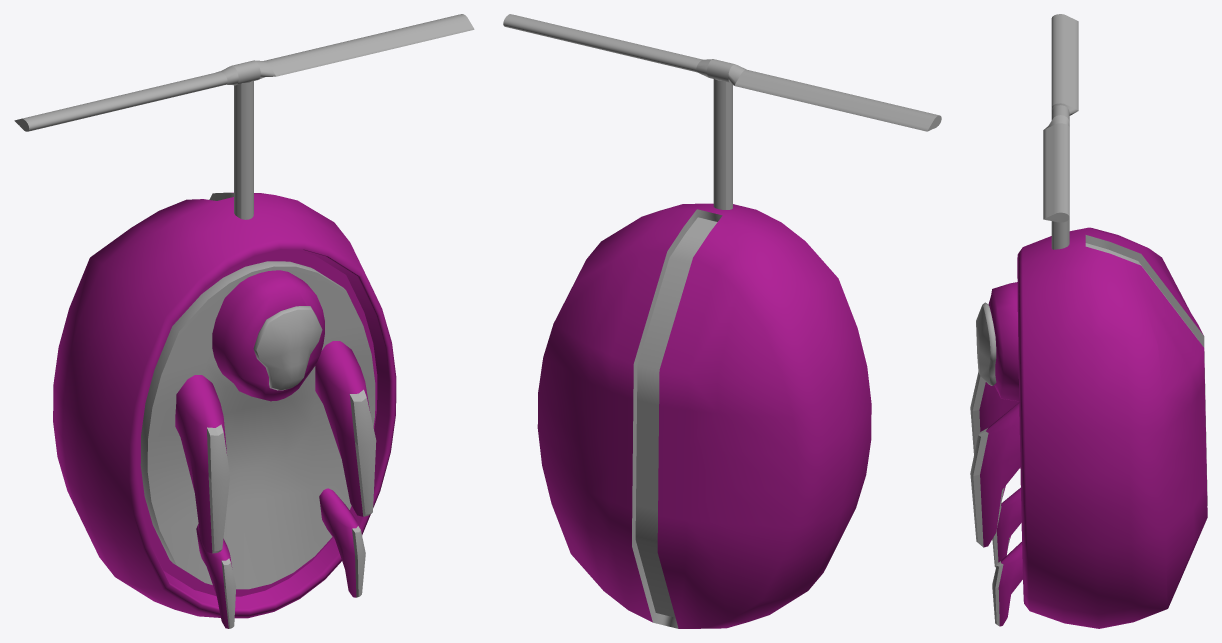
File: FlyinBotUnity_4.fbx
3 views of the same model, side by side, from view 1: azimuth 30°, elevation 25°; view 2: azimuth 150°, elevation 25°; view 3: azimuth 270°, elevation 25° (orthographic). The views are drawn at different scales.
Parts seen in each view (by area): view 1: Body, Head, Propeller_1, LeftTopArm, LeftTopArm1, PropellerBase, LeftTopArm2, LeftTopArm3; view 2: Body, Propeller_1, PropellerBase; view 3: Body, Propeller_1, LeftTopArm, Head, LeftTopArm2, LeftTopArm1, LeftTopArm3, PropellerBase.
Boxes of the visible parts, left/top/right/bottom form: Body: left=53, top=192, right=396, bottom=618; Head: left=212, top=270, right=324, bottom=401; Propeller_1: left=14, top=14, right=474, bottom=131; LeftTopArm: left=315, top=341, right=376, bottom=516; LeftTopArm1: left=175, top=375, right=229, bottom=553; PropellerBase: left=234, top=80, right=253, bottom=219; LeftTopArm2: left=319, top=488, right=365, bottom=597; LeftTopArm3: left=196, top=524, right=236, bottom=628; Body: left=537, top=203, right=871, bottom=628; Propeller_1: left=503, top=14, right=941, bottom=131; PropellerBase: left=713, top=78, right=732, bottom=209; Body: left=1017, top=227, right=1207, bottom=628; Propeller_1: left=1043, top=14, right=1078, bottom=222; LeftTopArm: left=970, top=402, right=1020, bottom=547; Head: left=976, top=282, right=1019, bottom=401; LeftTopArm2: left=992, top=542, right=1022, bottom=626; LeftTopArm1: left=970, top=371, right=1019, bottom=454; LeftTopArm3: left=992, top=487, right=1021, bottom=567; PropellerBase: left=1051, top=218, right=1069, bottom=249.
Bounding box in the file's own units: 78.09 × 94.21 × 40.
